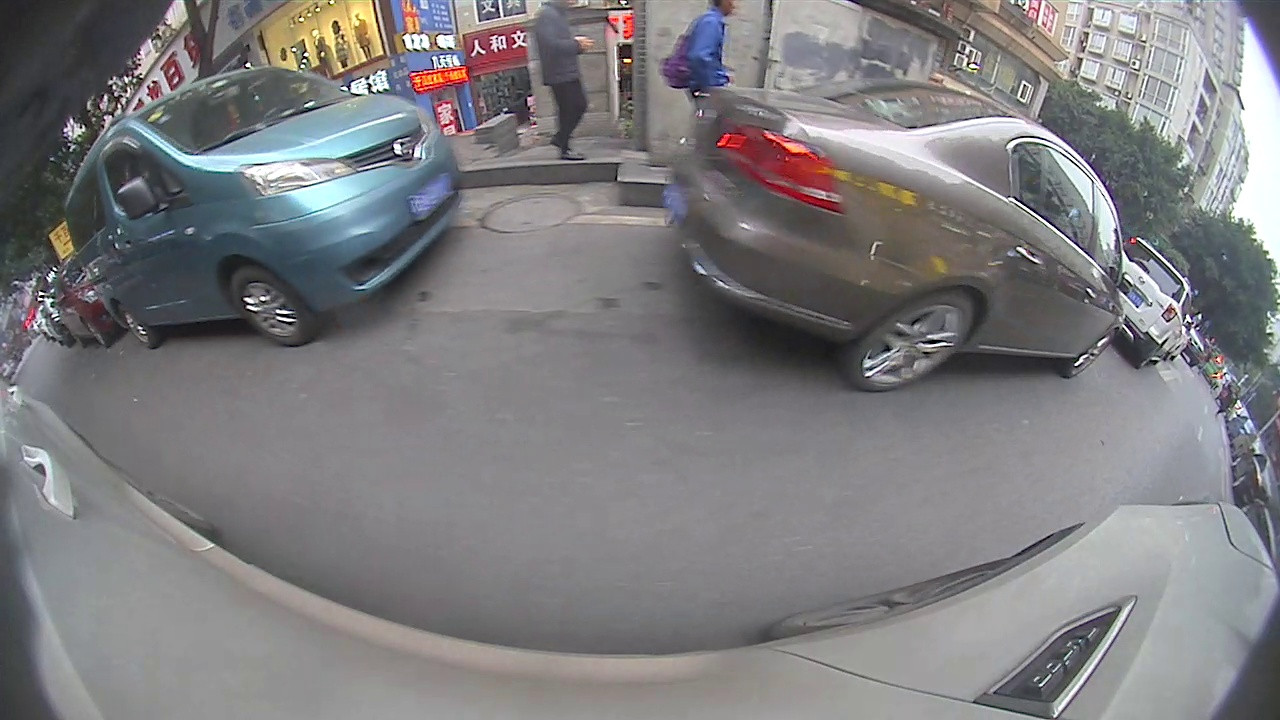car: (668, 76, 1128, 396), (62, 64, 467, 348), (1110, 235, 1192, 370), (50, 251, 117, 349)
front: (227, 266, 311, 349), (1061, 330, 1116, 380), (83, 316, 111, 350)
person: (531, 3, 570, 154), (690, 1, 735, 99)
rear: (844, 293, 982, 393), (115, 306, 157, 350)
